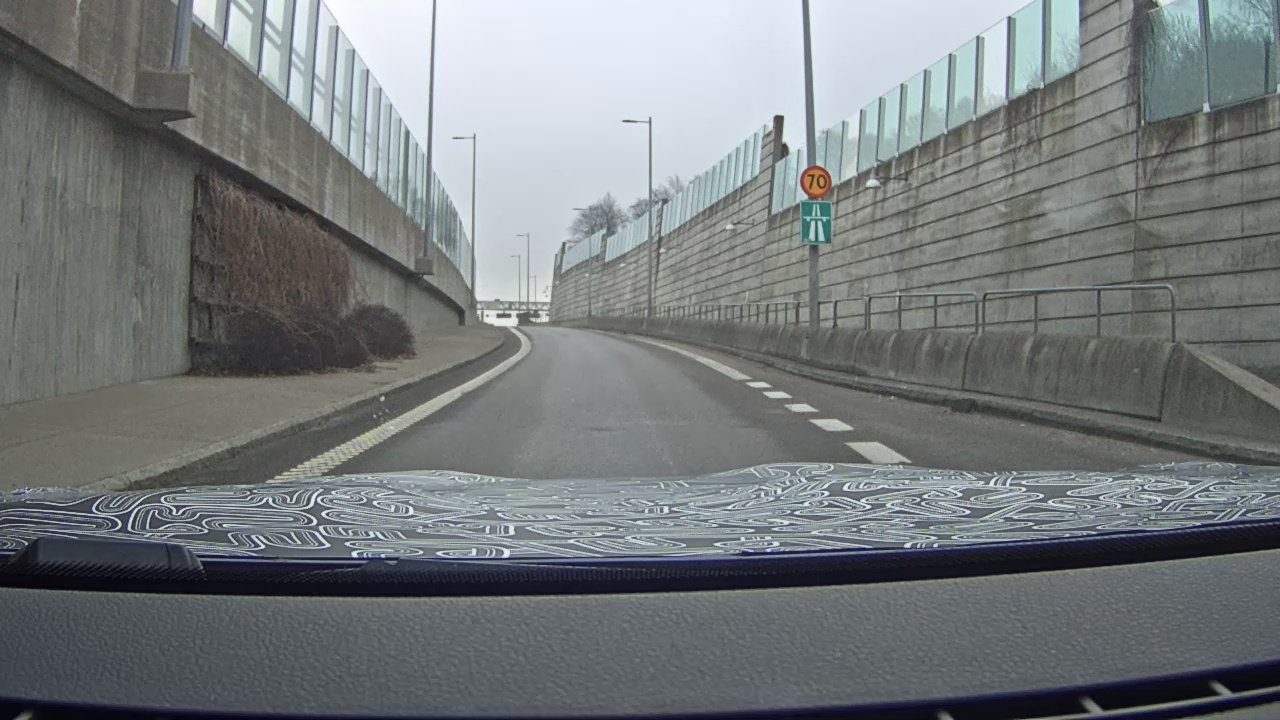Regular_End_Of_Motorway: (801, 200, 833, 245)
